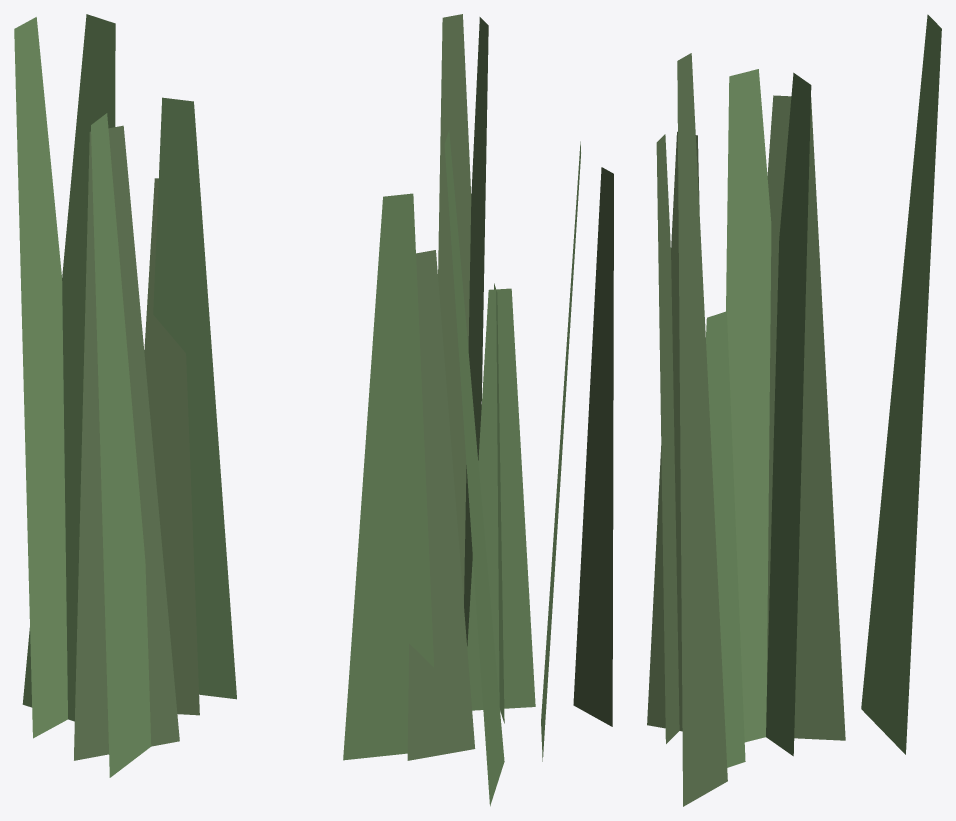
Rendered from cao.luwei@subadult__summer.glb.
The picture shows the model from 3 angles, left to right: view 1: azimuth 30°, elevation 25°; view 2: azimuth 150°, elevation 25°; view 3: azimuth 270°, elevation 25°; orthographic projection. The views are drawn at different scales.
Visible parts, largest first — view 1: cao.luwei@subadult__summer; view 2: cao.luwei@subadult__summer; view 3: cao.luwei@subadult__summer.
Part boxes in pixels (left/top/right/bottom): cao.luwei@subadult__summer: left=14, top=14, right=236, bottom=777; cao.luwei@subadult__summer: left=343, top=14, right=613, bottom=806; cao.luwei@subadult__summer: left=647, top=14, right=941, bottom=806.
Bounding box in the file's own units: 0.3813 × 1.33 × 0.4852.
